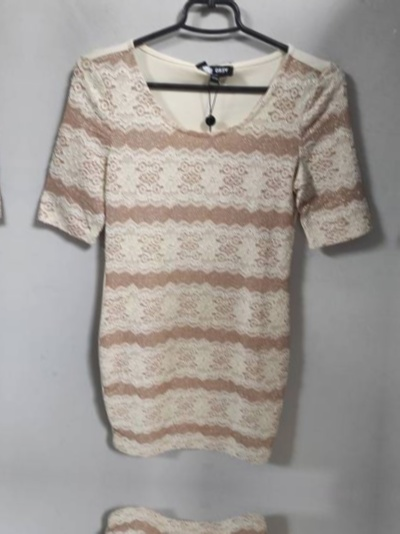Dress: (17, 20, 372, 464), (0, 505, 342, 534), (0, 0, 20, 443), (384, 529, 400, 534)
